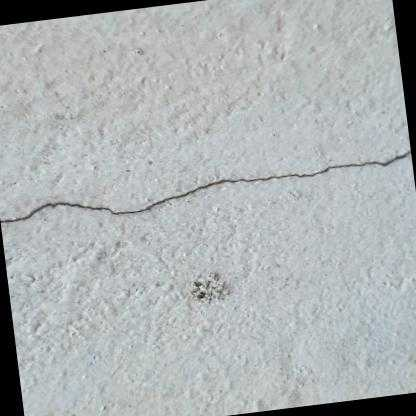crack: (0, 148, 411, 222)
